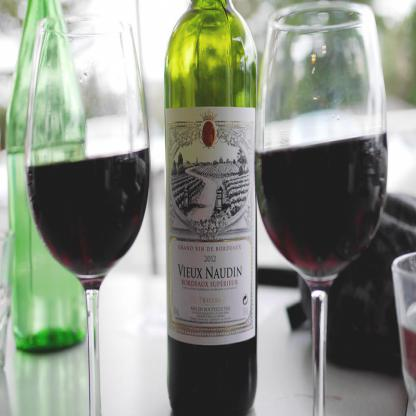drinking: (255, 2, 388, 416), (25, 15, 151, 415), (164, 0, 258, 415)
